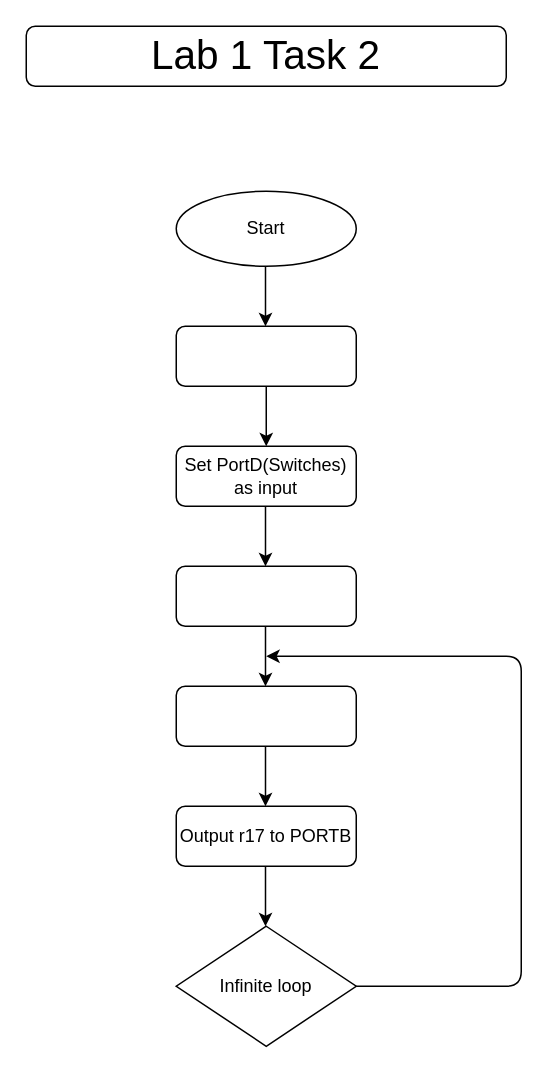
This 560x1073 diagram has some shape labels left out. Each missing label, with the centre of its shape:
"Input PIND to r17" belongs at [265,715].
"Output 0XFF to PortB" belongs at [265,595].
"Set PortB(LEDs) as output" belongs at [265,355].
